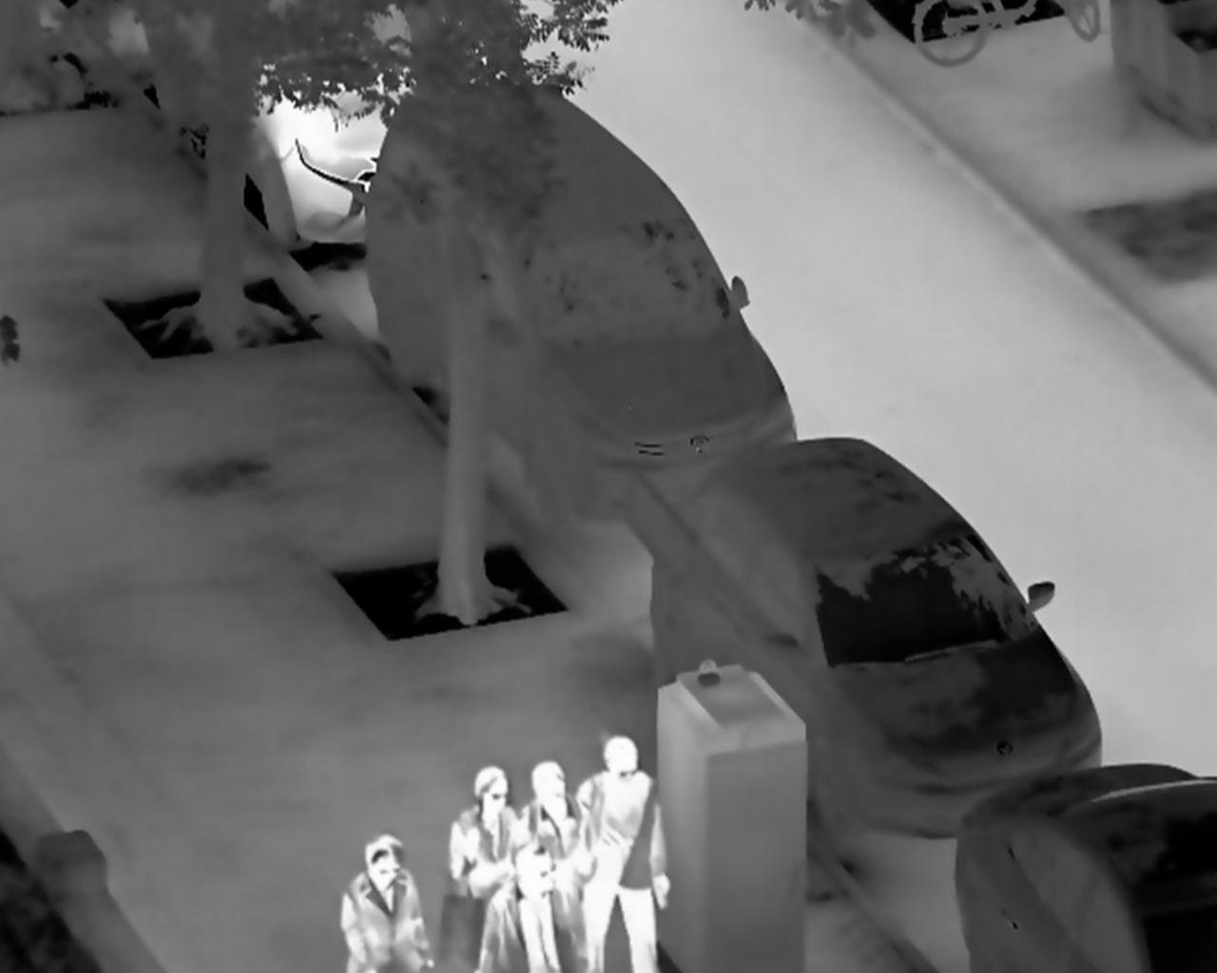person: (575, 735, 672, 973), (468, 838, 592, 973), (512, 755, 593, 929), (338, 831, 432, 973), (443, 759, 519, 924)
